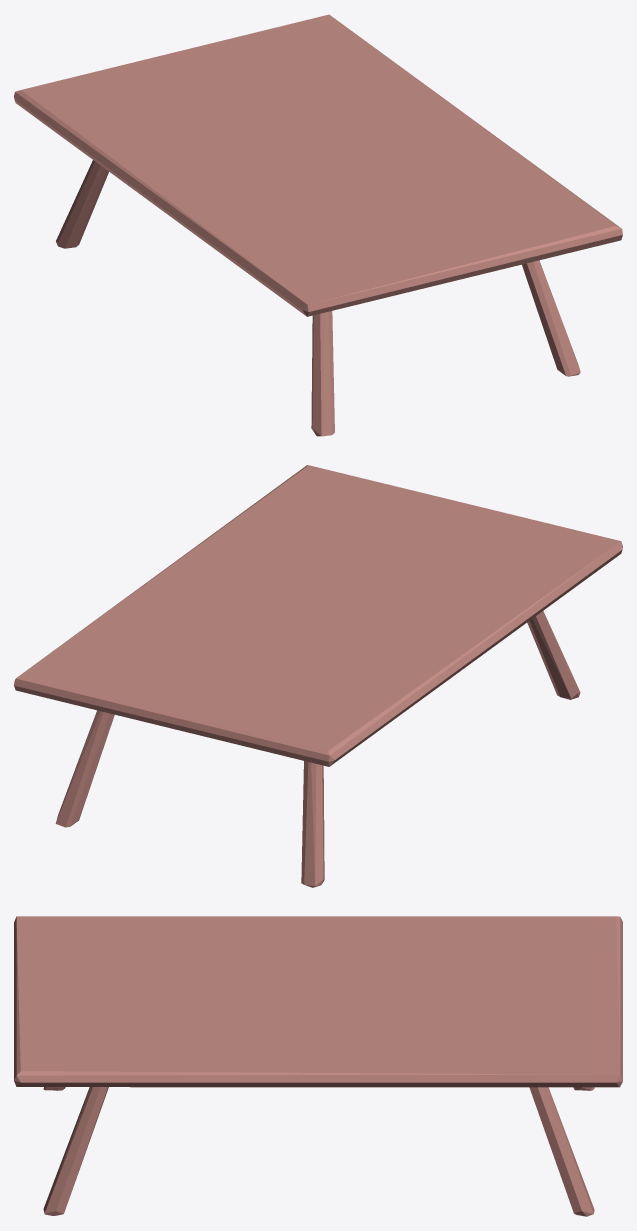
Rendered from Table.gltf.
The picture shows the model from 3 angles, top to bottom: view 1: azimuth 30°, elevation 25°; view 2: azimuth 150°, elevation 25°; view 3: azimuth 270°, elevation 25°; orthographic projection. The views are drawn at different scales.
Parts seen in each view (by area): view 1: Table; view 2: Table; view 3: Table.
Part boxes in pixels (x1,y1,x2,y2): Table: (14,14,622,436); Table: (14,465,622,887); Table: (14,916,622,1216).
Size of the model in its own units: 12.94 by 5.89 by 20.61.
